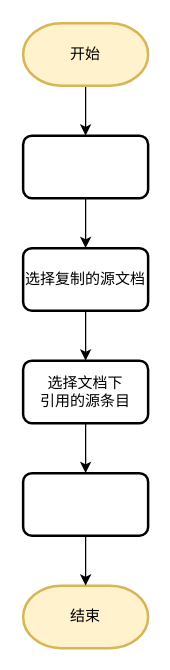
Image size: 170x670. Some labels were removed from this diagram. Here are the shapes that lost their labels. From the top down, the box of each, then its label:
(21, 134, 149, 199): 选择需要挂载 的目标条目
(21, 471, 149, 536): 把源条目复制到目标条目下
